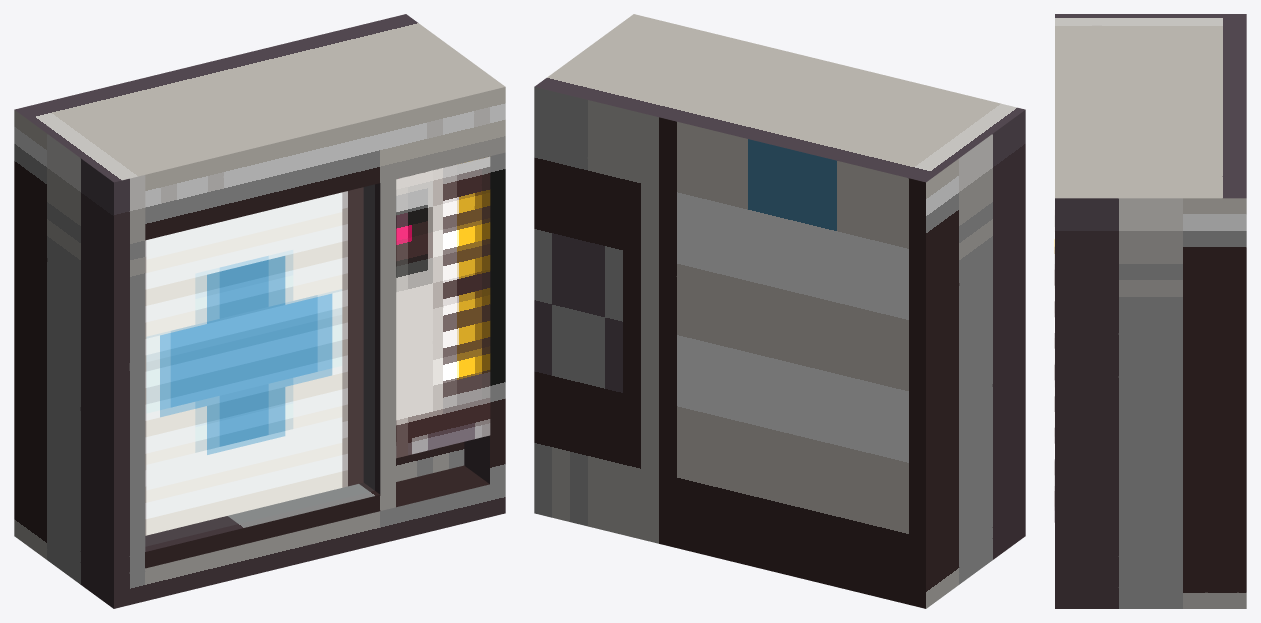
The model's file is vending_med.glb.
3 views of the same model, side by side, from view 1: azimuth 30°, elevation 25°; view 2: azimuth 150°, elevation 25°; view 3: azimuth 270°, elevation 25° (orthographic). The views are drawn at different scales.
Parts seen in each view (by area): view 1: vending_med_Cabinet, vending_med, vending_med_Display_Glass, vending_med_Delivery_Flap; view 2: vending_med_Cabinet; view 3: vending_med_Cabinet, vending_med.
Boxes of the visible parts, box(x1,y1,x2,y2) form: vending_med_Cabinet: box(14, 14, 505, 608); vending_med: box(145, 156, 490, 535); vending_med_Display_Glass: box(146, 185, 374, 545); vending_med_Delivery_Flap: box(396, 442, 464, 481); vending_med_Cabinet: box(534, 14, 1025, 608); vending_med_Cabinet: box(1055, 14, 1246, 608); vending_med: box(1054, 210, 1054, 522).
Bounding box in the file's own units: 1.5 × 1.56 × 0.662.
4 materials, 3 textured.
